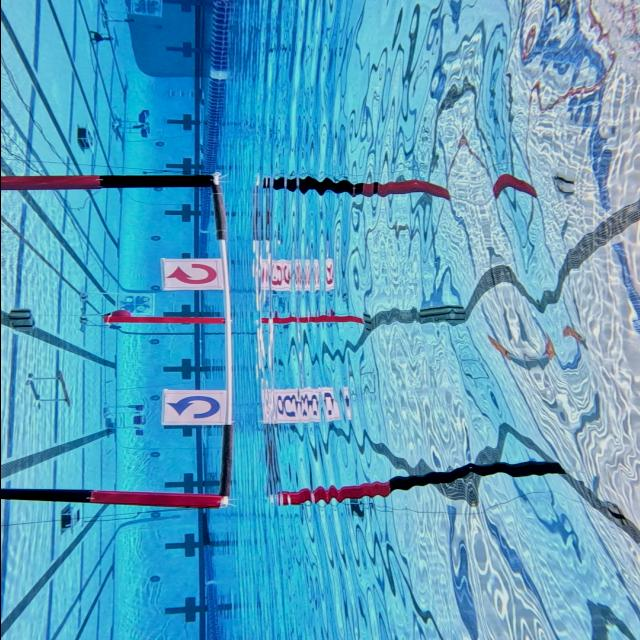blue_side: (156, 385, 236, 426)
red_side: (163, 260, 228, 291)
